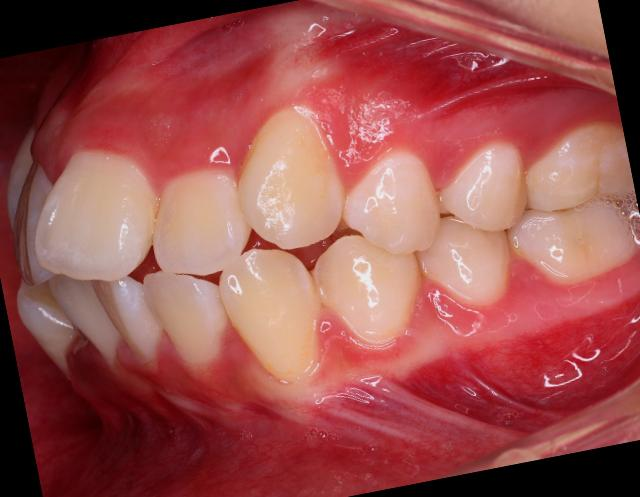canine class II 1/4: (183, 79, 444, 407)
molar class I: (485, 114, 640, 304)
